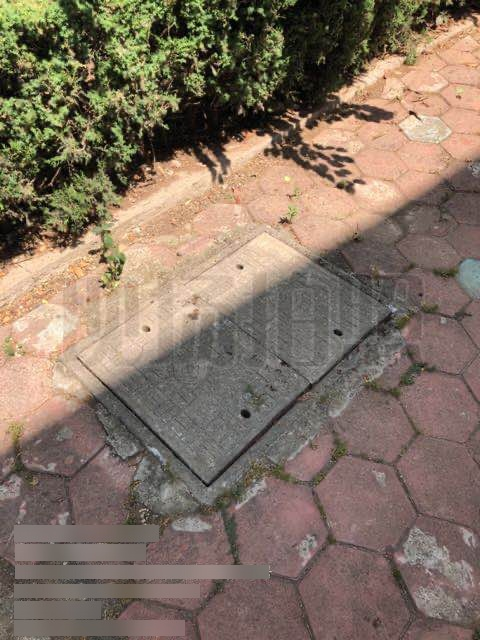good: (58, 224, 410, 509)
